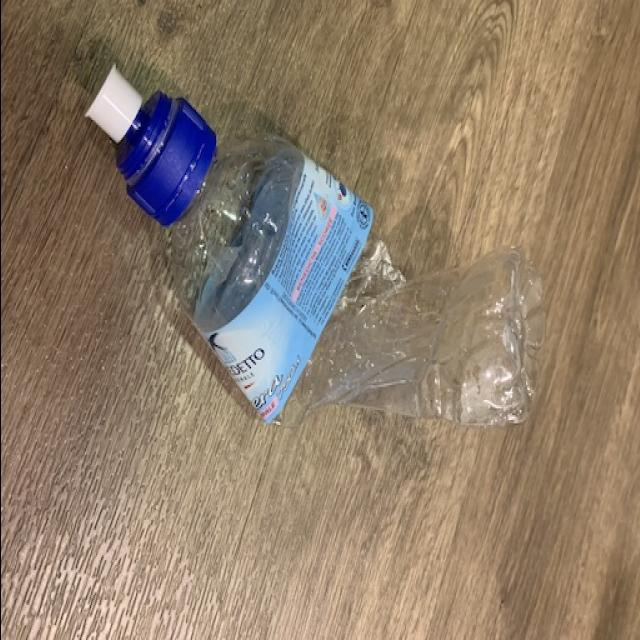litter: (76, 57, 545, 440)
